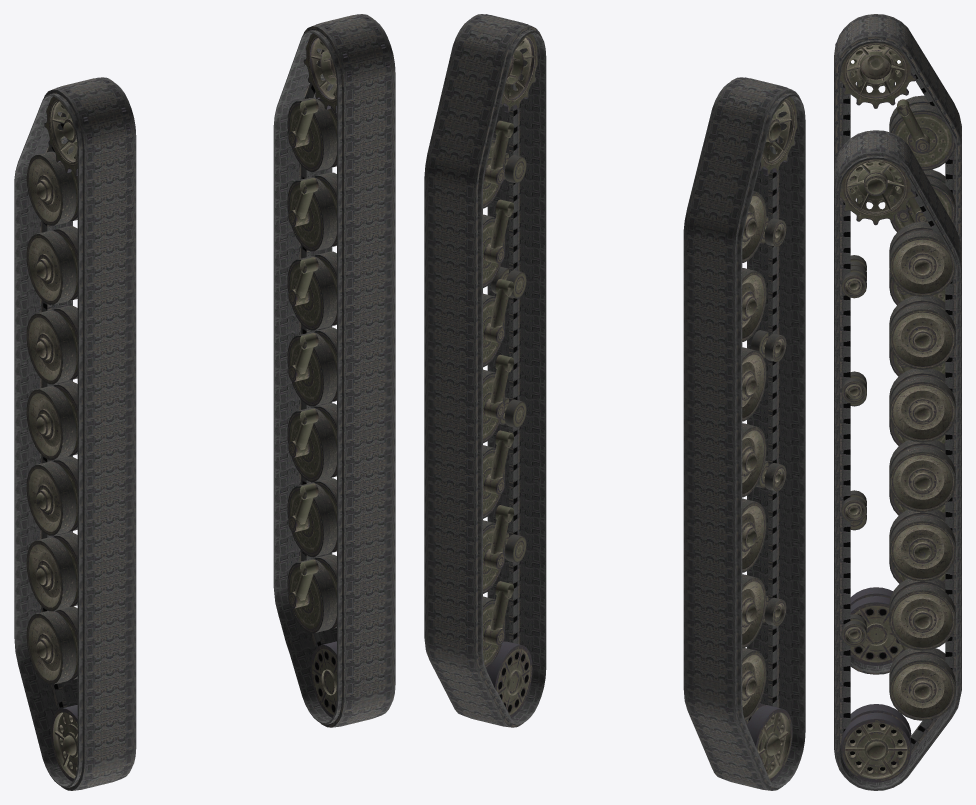
File: Chassis.glb
The picture shows the model from 3 angles, left to right: view 1: azimuth 30°, elevation 25°; view 2: azimuth 150°, elevation 25°; view 3: azimuth 270°, elevation 25°; orthographic projection. The views are drawn at different scales.
Visible parts, largest first — view 1: set_1_group_0, set_0_group_0, set_2_group_0, set_3_group_0; view 2: set_0_group_0, set_1_group_0, set_3_group_0, set_2_group_0; view 3: set_3_group_0, set_1_group_0, set_2_group_0, set_0_group_0.
Boxes of the visible parts, x1,y1,x2,y2 form: set_1_group_0: [273, 14, 395, 727]; set_0_group_0: [14, 77, 136, 790]; set_2_group_0: [26, 77, 130, 781]; set_3_group_0: [287, 14, 389, 717]; set_0_group_0: [683, 77, 805, 790]; set_1_group_0: [424, 14, 546, 727]; set_3_group_0: [458, 14, 537, 717]; set_2_group_0: [718, 77, 797, 781]; set_3_group_0: [835, 131, 955, 782]; set_1_group_0: [834, 130, 961, 790]; set_2_group_0: [835, 15, 955, 665]; set_0_group_0: [834, 14, 961, 674].
Bounding box in the file's own units: 3.07 × 6.43 × 1.16.
4 materials, 4 textured.
